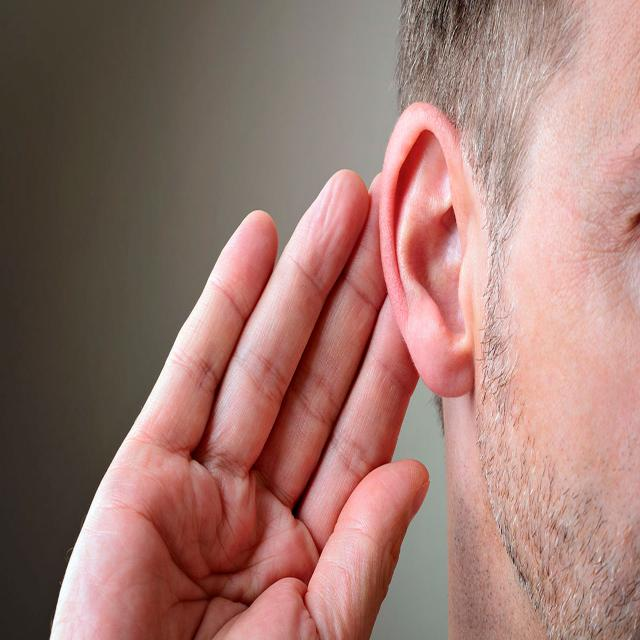earlobe: (429, 328, 474, 398)
wholeear: (378, 102, 474, 399)
